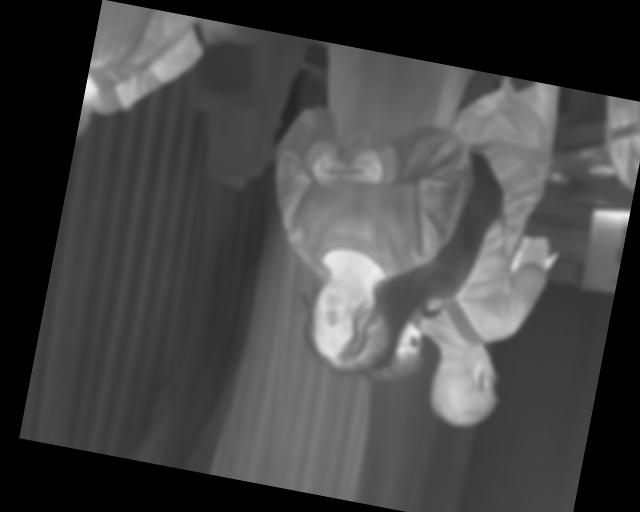face: (299, 275, 401, 382)
